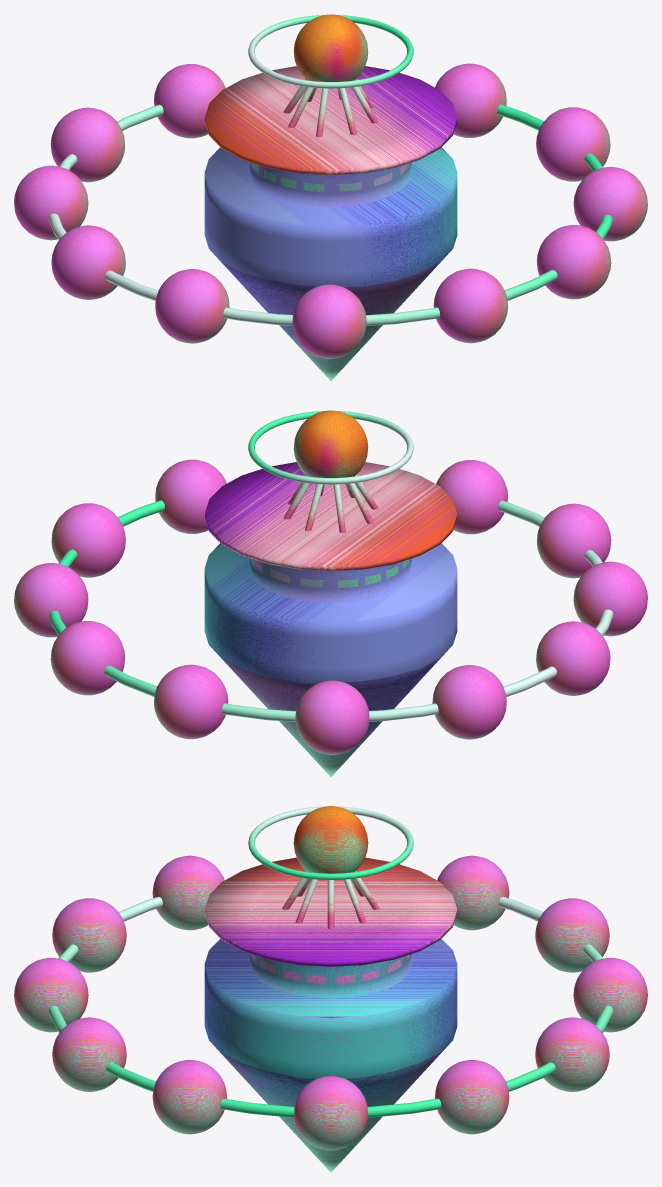
The model's file is UFO.obj.
3 renders of one model, top to bottom at view 1: azimuth 30°, elevation 25°; view 2: azimuth 150°, elevation 25°; view 3: azimuth 270°, elevation 25°, orthographic.
Parts seen in each view (by area): view 1: Cylinder001, Sphere010, Circle002, Sphere001, Circle001, object 6; view 2: Cylinder001, Sphere010, Circle002, Sphere001, Circle001, object 6; view 3: Cylinder001, Sphere010, Circle002, Sphere001, Circle001, object 6.
Part boxes in pixels (left/top/right/bottom): Cylinder001: left=204, top=66, right=457, bottom=380; Sphere010: left=14, top=63, right=647, bottom=358; Circle002: left=48, top=104, right=612, bottom=325; Sphere001: left=293, top=14, right=368, bottom=88; Circle001: left=248, top=15, right=413, bottom=88; object 6: left=283, top=79, right=378, bottom=137; Cylinder001: left=204, top=462, right=457, bottom=776; Sphere010: left=14, top=459, right=647, bottom=754; Circle002: left=49, top=500, right=613, bottom=721; Sphere001: left=293, top=410, right=368, bottom=484; Circle001: left=248, top=411, right=413, bottom=484; object 6: left=283, top=475, right=378, bottom=533; Cylinder001: left=204, top=857, right=457, bottom=1172; Sphere010: left=14, top=855, right=647, bottom=1150; Circle002: left=48, top=896, right=613, bottom=1117; Sphere001: left=293, top=806, right=368, bottom=880; Circle001: left=248, top=806, right=413, bottom=879; object 6: left=282, top=871, right=379, bottom=929.
Size of the model in its own units: 173 by 110 by 173.
Materials: 4 (4 with a texture image).
